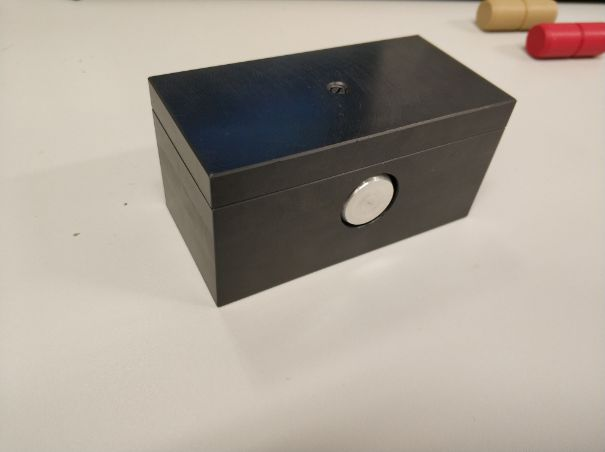black+black+silver: (144, 31, 522, 312)
